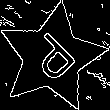P_SE: (21, 26, 83, 89)
